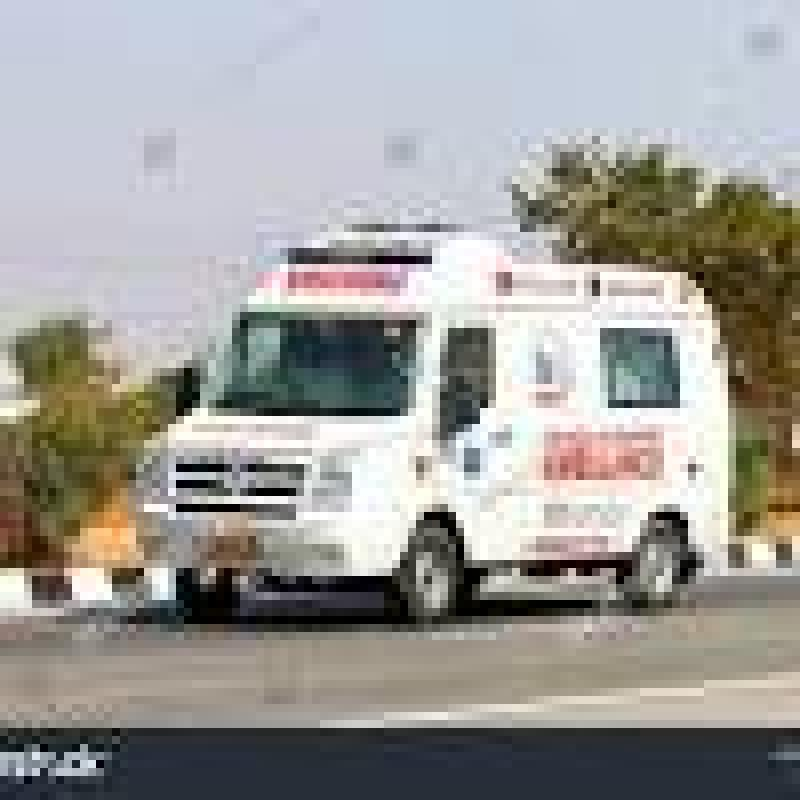ambulance: (134, 195, 731, 617)
